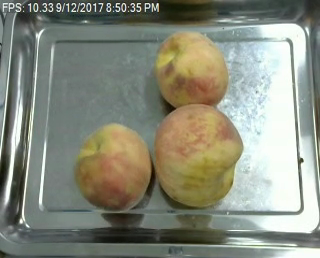Peach: (154, 102, 244, 206), (74, 121, 152, 211), (155, 30, 229, 109)
